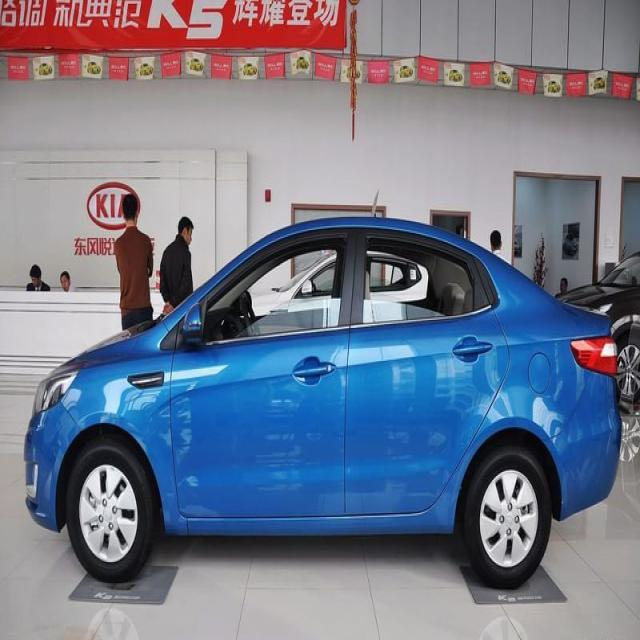back_left_side_light: (569, 331, 620, 378)
door: (350, 222, 514, 520)
front_bumper: (22, 400, 84, 540)
front_left_side_door: (168, 221, 358, 522)
front_left_side_light: (29, 362, 86, 418)
front_left_side_mirror: (181, 302, 205, 349)
rear_bumper: (541, 368, 624, 521)
wheel: (462, 446, 551, 590), (64, 444, 154, 583)
